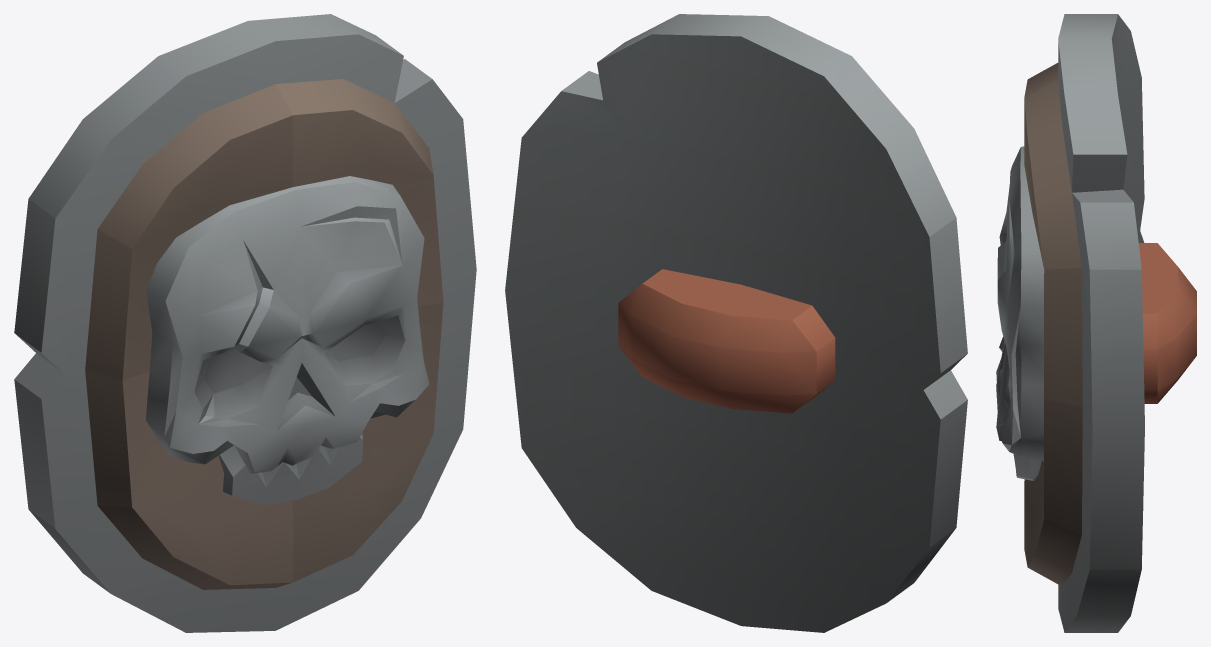
File: kaykit-skeleton-shield-large.glb
3 renders of one model, left to right at view 1: azimuth 30°, elevation 25°; view 2: azimuth 150°, elevation 25°; view 3: azimuth 270°, elevation 25°, orthographic. The views are drawn at different scales.
Parts seen in each view (by area): view 1: kaykit-skeleton-shield-large; view 2: kaykit-skeleton-shield-large; view 3: kaykit-skeleton-shield-large.
Boxes of the visible parts, bbox=[...] form: kaykit-skeleton-shield-large: bbox=[14, 14, 476, 632]; kaykit-skeleton-shield-large: bbox=[505, 14, 967, 632]; kaykit-skeleton-shield-large: bbox=[996, 14, 1196, 632].
Bounding box in the file's own units: 0.6579 × 0.8512 × 0.2719.
1 material, 1 textured.
